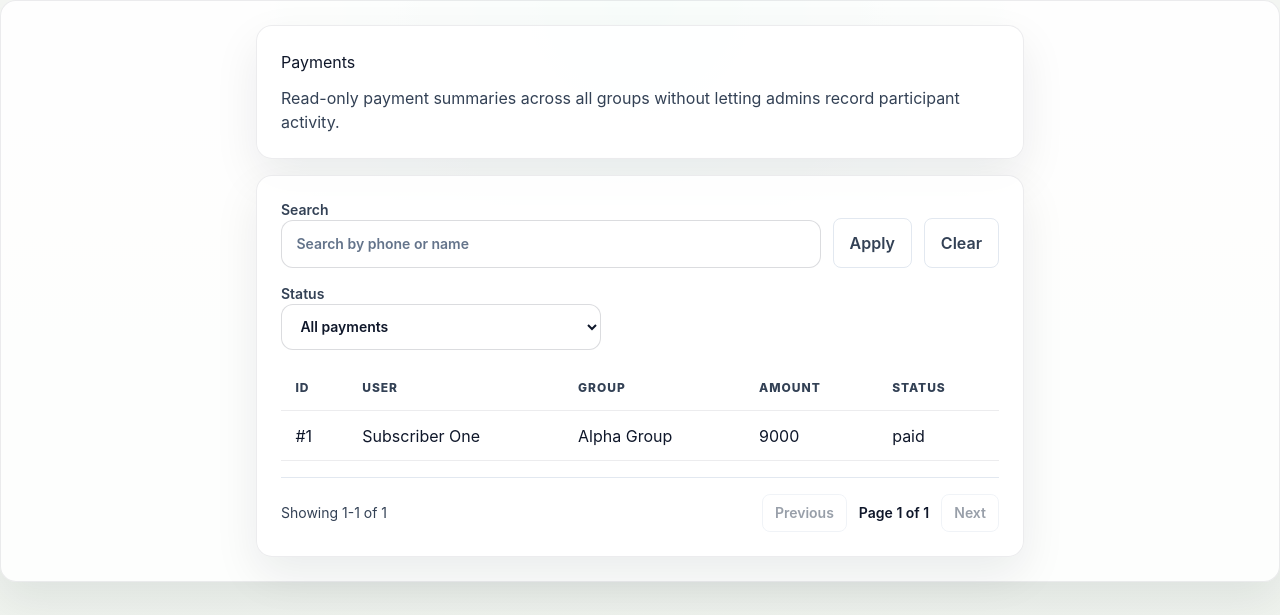
Test case: AdminPaymentsPage applies a phone or name search from the admin toolbar
expect the text "Subscriber One" is shown: met, box [348,410,564,461]
Type "search" into the search field labelled "Search" at (551, 244), box [281,220,820,268]
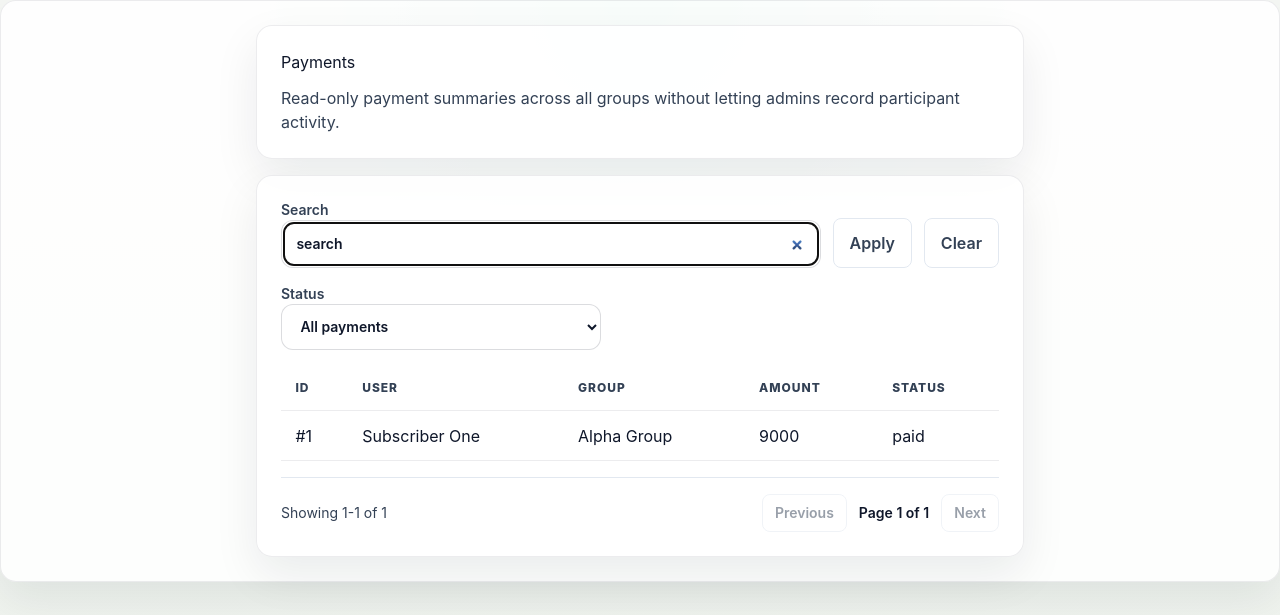
Click the button with aria-label "Apply search" at (872, 243), box [832,218,912,268]
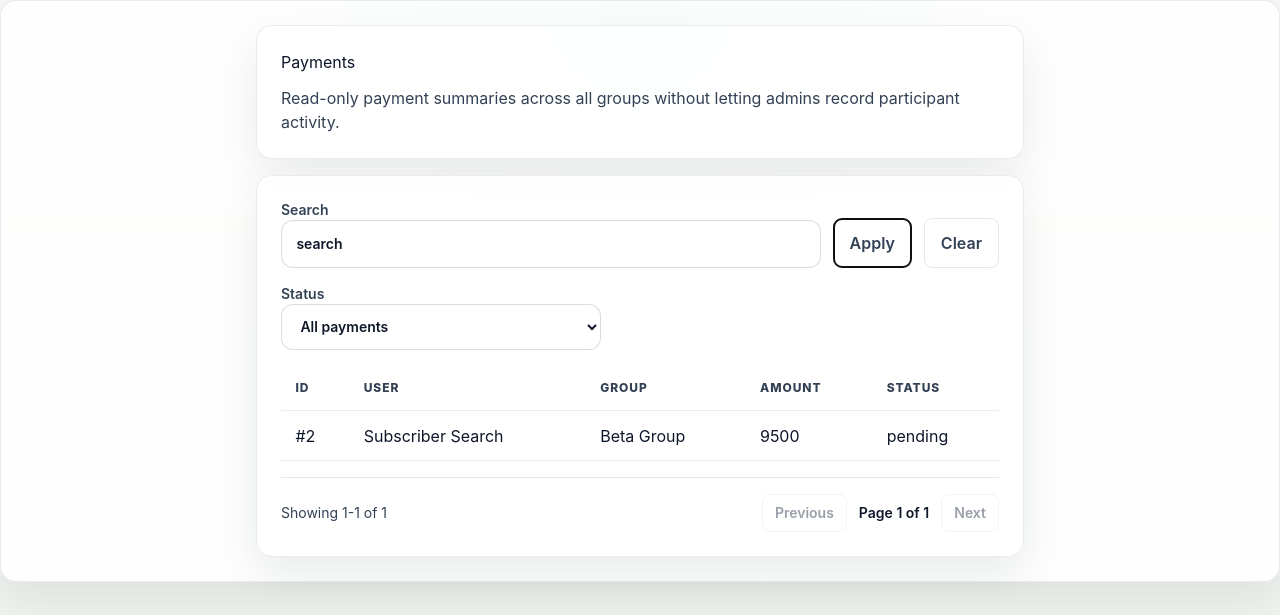
expect the text "Subscriber Search" is shown: met, box [349,410,586,461]
